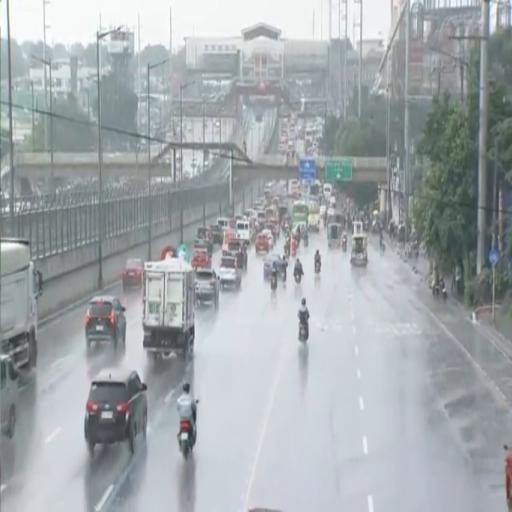bus: (292, 201, 309, 230)
car: (85, 367, 148, 454), (86, 296, 126, 349), (0, 355, 19, 438), (195, 269, 220, 310), (218, 255, 241, 289), (223, 239, 247, 270), (122, 259, 143, 290), (264, 253, 286, 280), (195, 227, 213, 257), (191, 248, 211, 268), (209, 224, 223, 245), (255, 233, 269, 253), (262, 229, 273, 249)
motorcycle: (179, 420, 195, 459), (504, 445, 511, 511), (439, 279, 447, 301), (299, 323, 307, 342), (432, 283, 439, 298), (271, 276, 277, 291), (294, 272, 301, 284), (315, 261, 320, 275), (285, 246, 290, 259), (380, 242, 385, 254), (291, 246, 296, 258), (342, 239, 347, 251), (304, 236, 308, 247)
truck: (0, 238, 42, 371), (143, 256, 195, 361)
